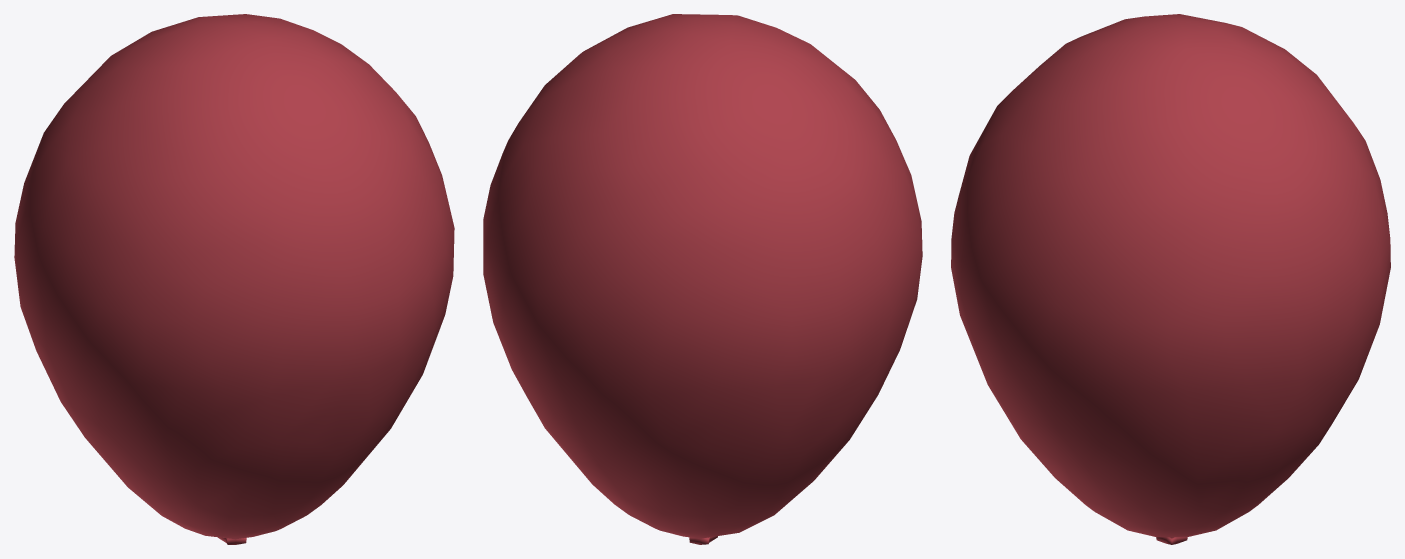
The model's file is BalloonRed.fbx.
The picture shows the model from 3 angles, left to right: view 1: azimuth 30°, elevation 25°; view 2: azimuth 150°, elevation 25°; view 3: azimuth 270°, elevation 25°; orthographic projection.
Visible parts, largest first — view 1: Balloon; view 2: Balloon; view 3: Balloon.
Boxes of the visible parts, box(x1,y1,x2,y2) form: Balloon: box(14, 14, 454, 544); Balloon: box(483, 14, 922, 544); Balloon: box(951, 14, 1390, 544).
Size of the model in its own units: 95.69 by 122 by 95.56.
1 material, 1 textured.
